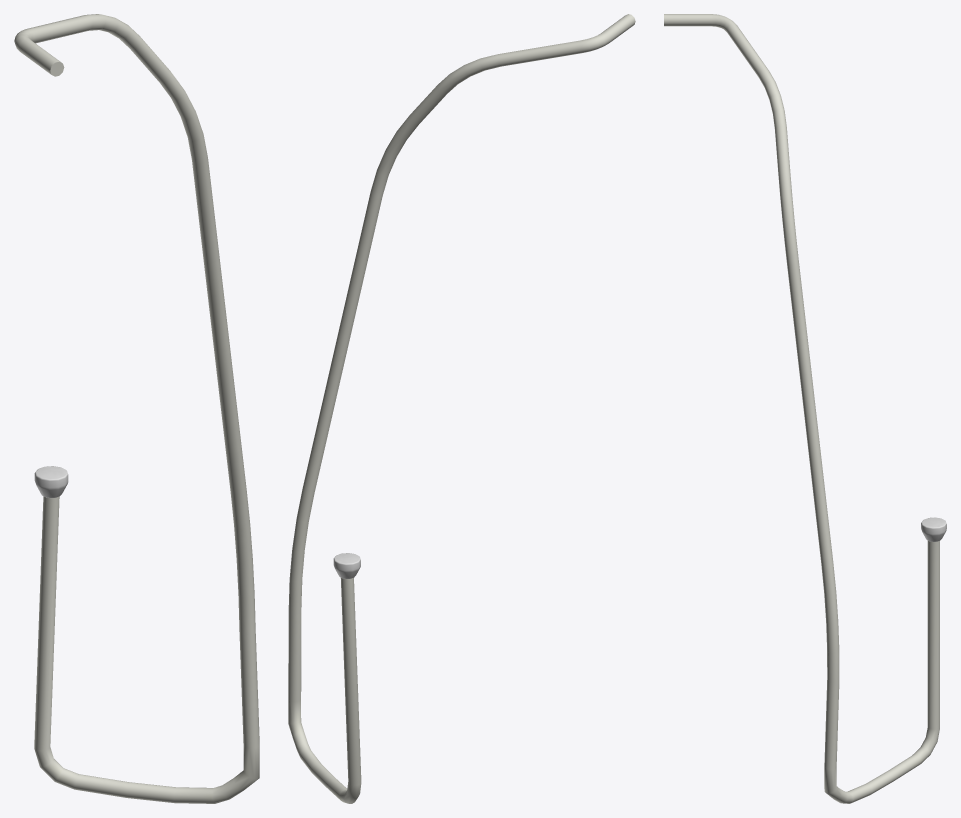
3 views of the same model, side by side, from view 1: azimuth 30°, elevation 25°; view 2: azimuth 150°, elevation 25°; view 3: azimuth 270°, elevation 25° (orthographic). The views are drawn at different scales.
Visible parts, largest first — view 1: SM_水管01; view 2: SM_水管01; view 3: SM_水管01.
Boxes of the visible parts, x1,y1,x2,y2 form: SM_水管01: [14, 14, 259, 803]; SM_水管01: [288, 14, 635, 803]; SM_水管01: [664, 14, 946, 803].
Size of the model in its own units: 0.2252 by 0.2275 by 0.6099.
